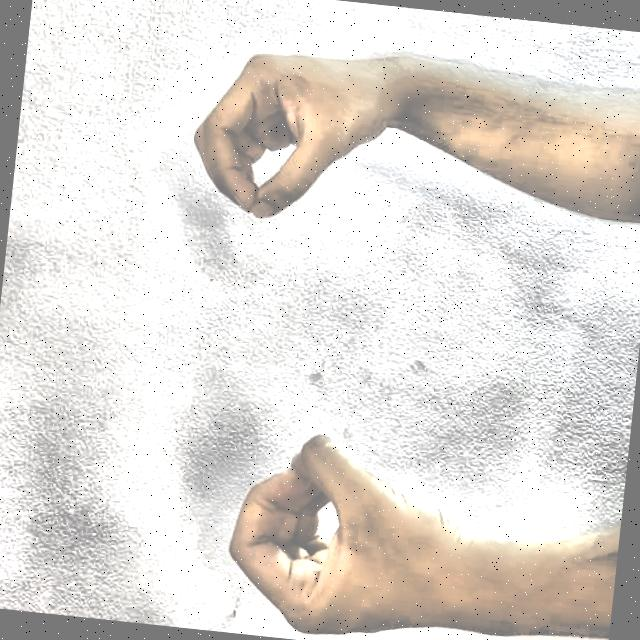Bisharga: (113, 0, 490, 640)
